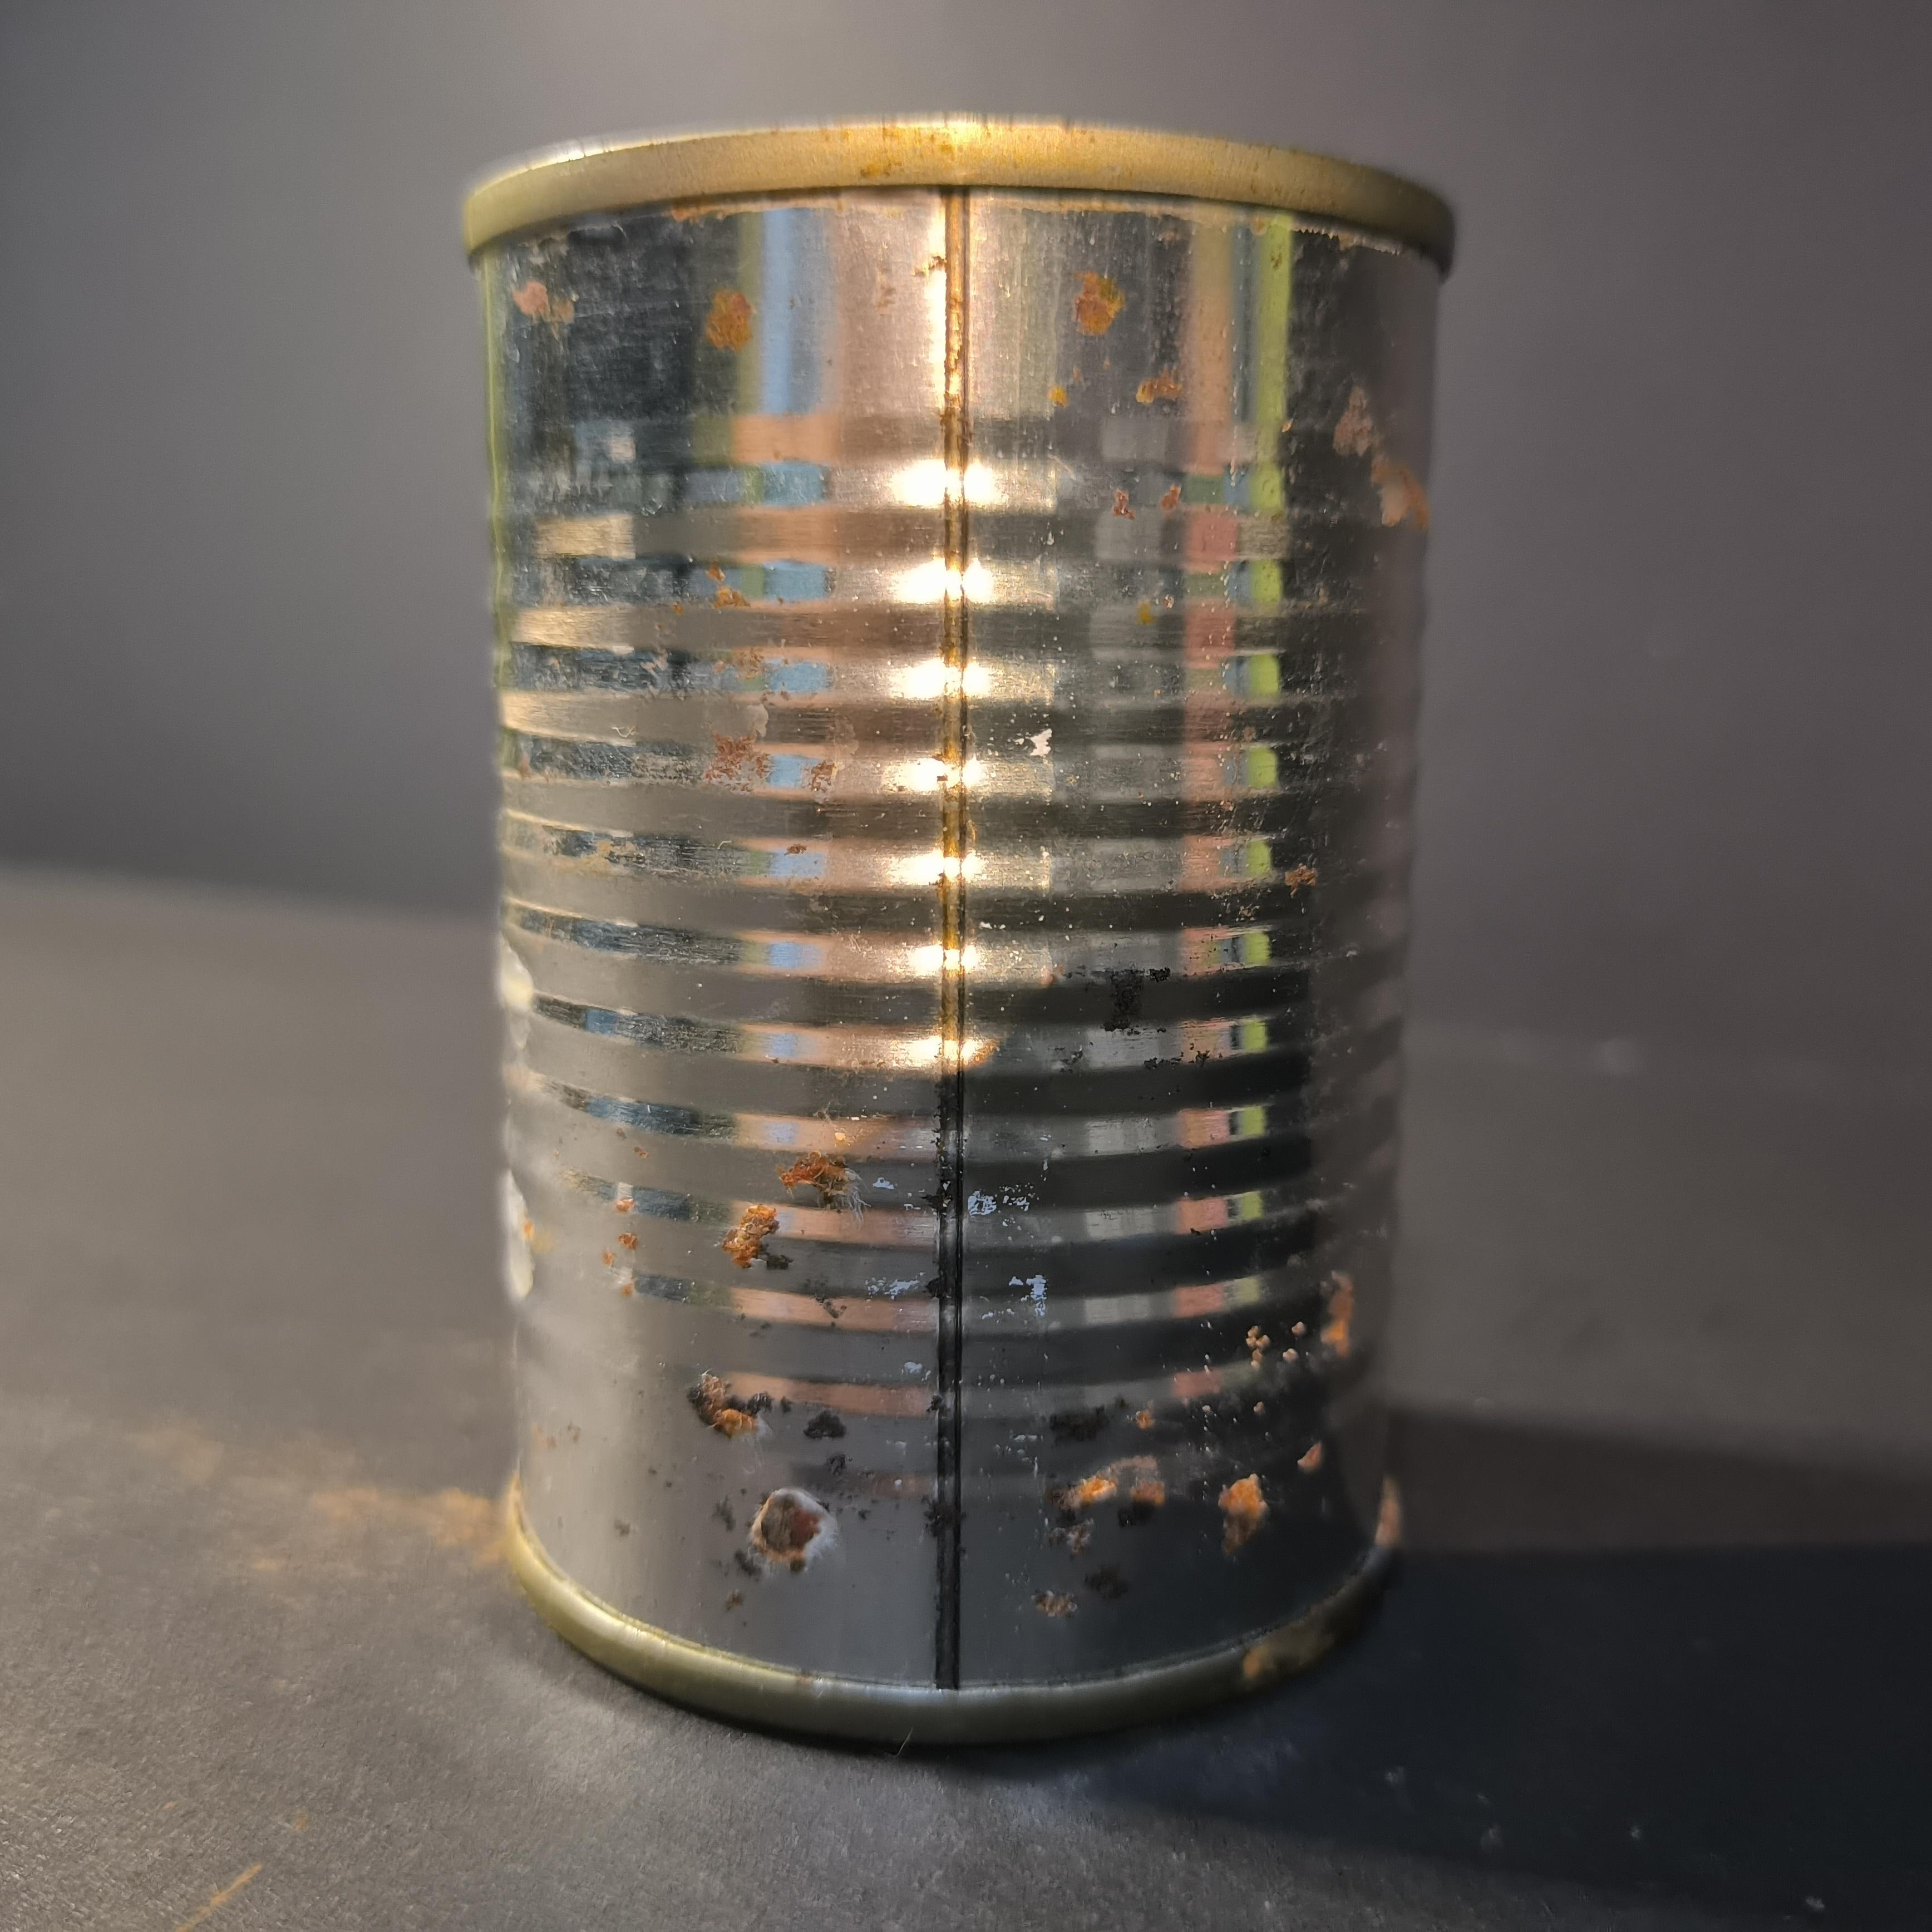Rusted: (432, 88, 1468, 1780)
